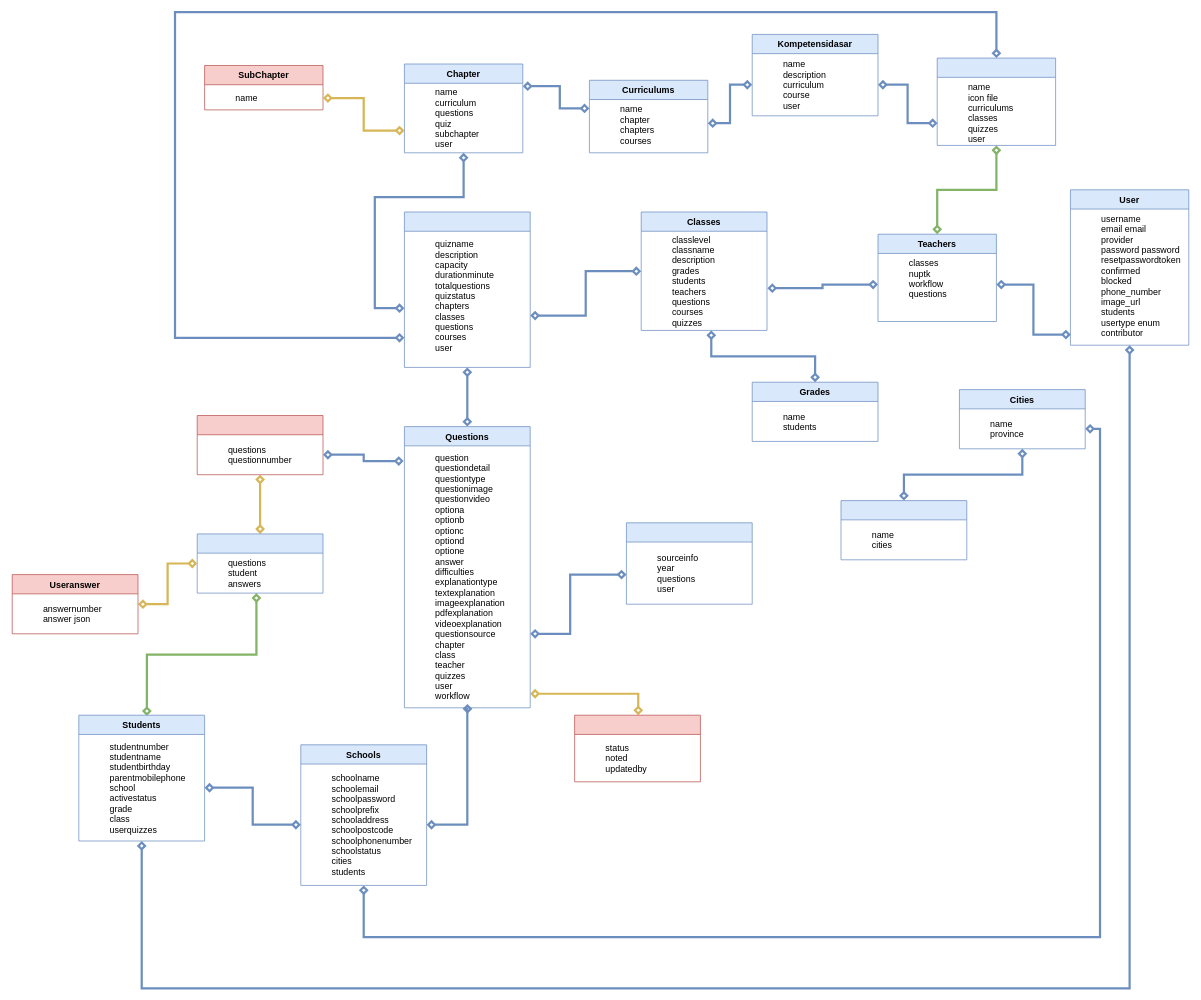
Some shapes in this 1201 by 1000 pixel diagram are drawn without their labels. The box of each missing label's shape, as (x1, y1, x2, y2) in pixels:
Courses: (936, 57, 1056, 145)
Provinces: (840, 500, 967, 560)
Questionsource: (626, 522, 752, 604)
Quizzes: (404, 211, 530, 367)
Userquestions: (196, 415, 323, 475)
Userquizzes: (196, 533, 323, 593)
workflow: (574, 714, 700, 782)
